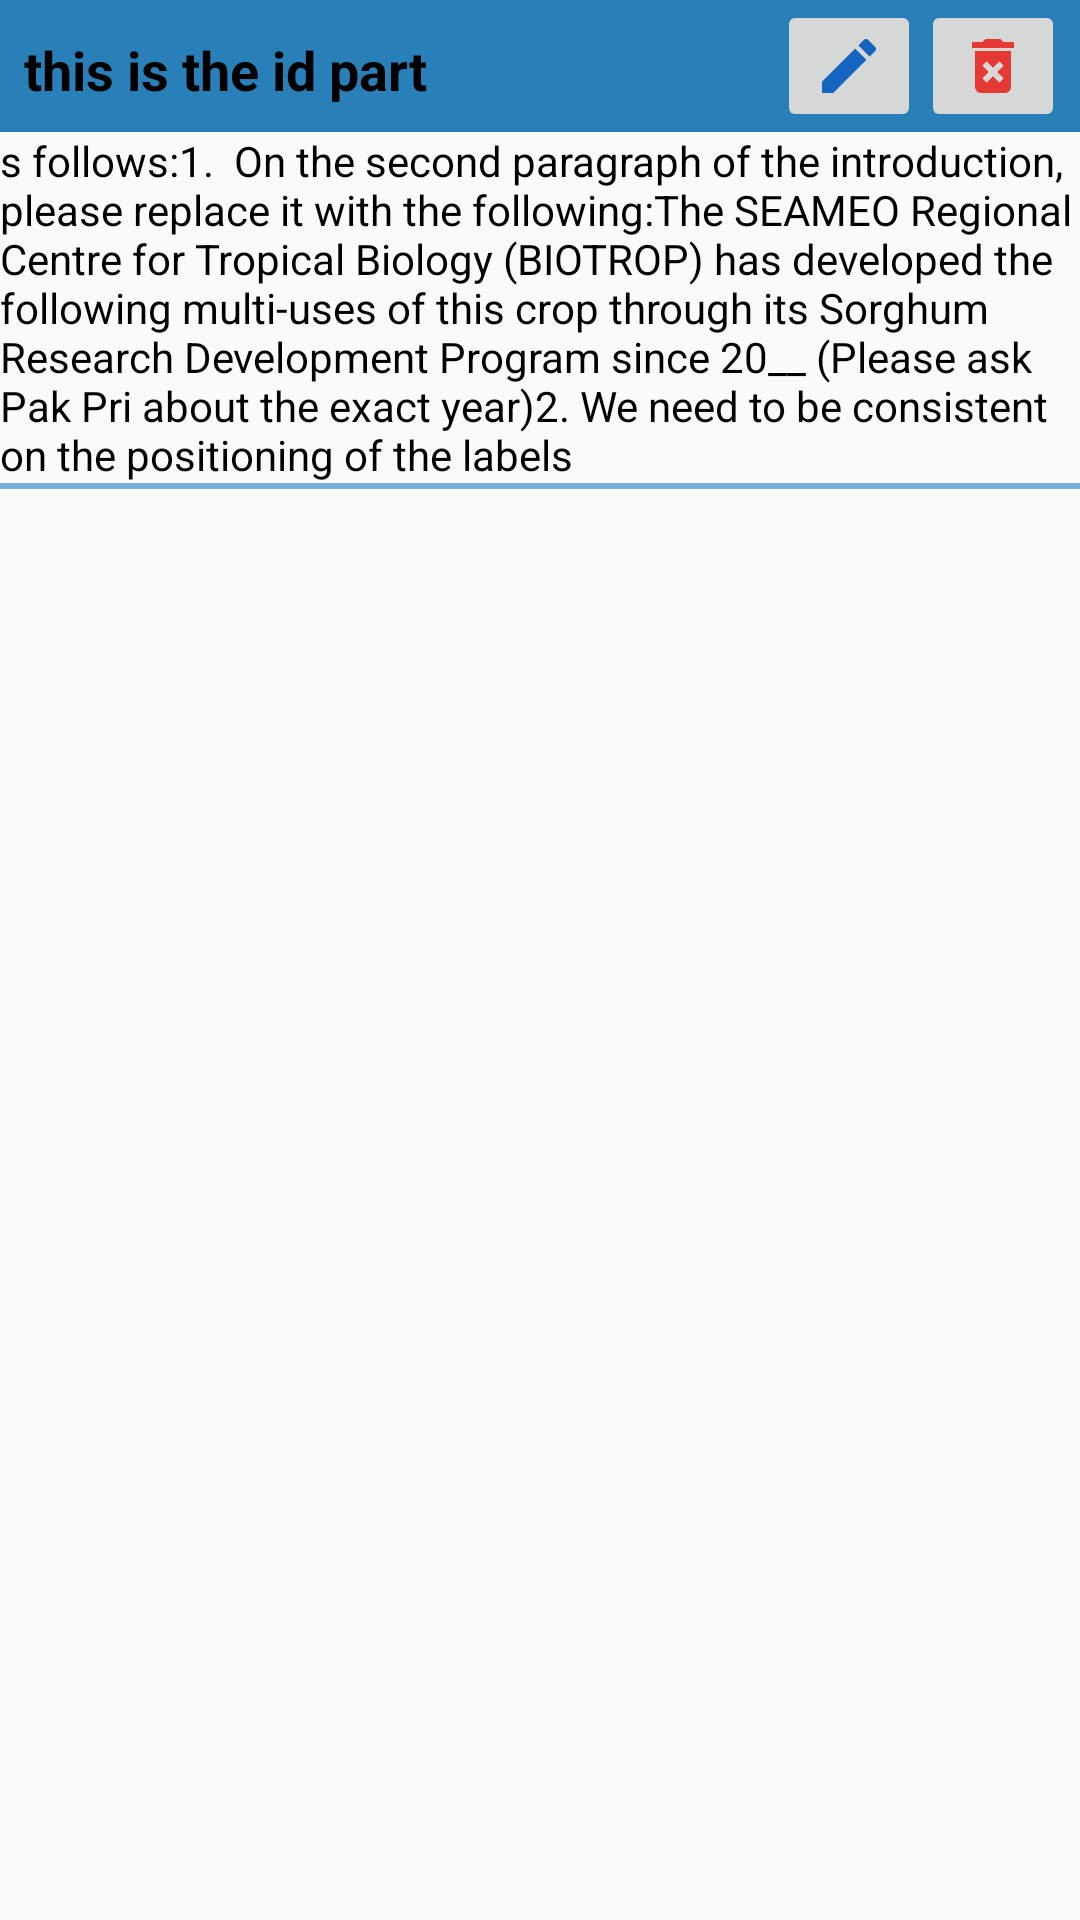

Locate icon controls on the screen. Image size 1080w x 1920h, boxes as bbox(x1, y1, x2, y2).
delete forever: bbox(933, 18, 1053, 114)
edit: bbox(789, 18, 909, 114)
